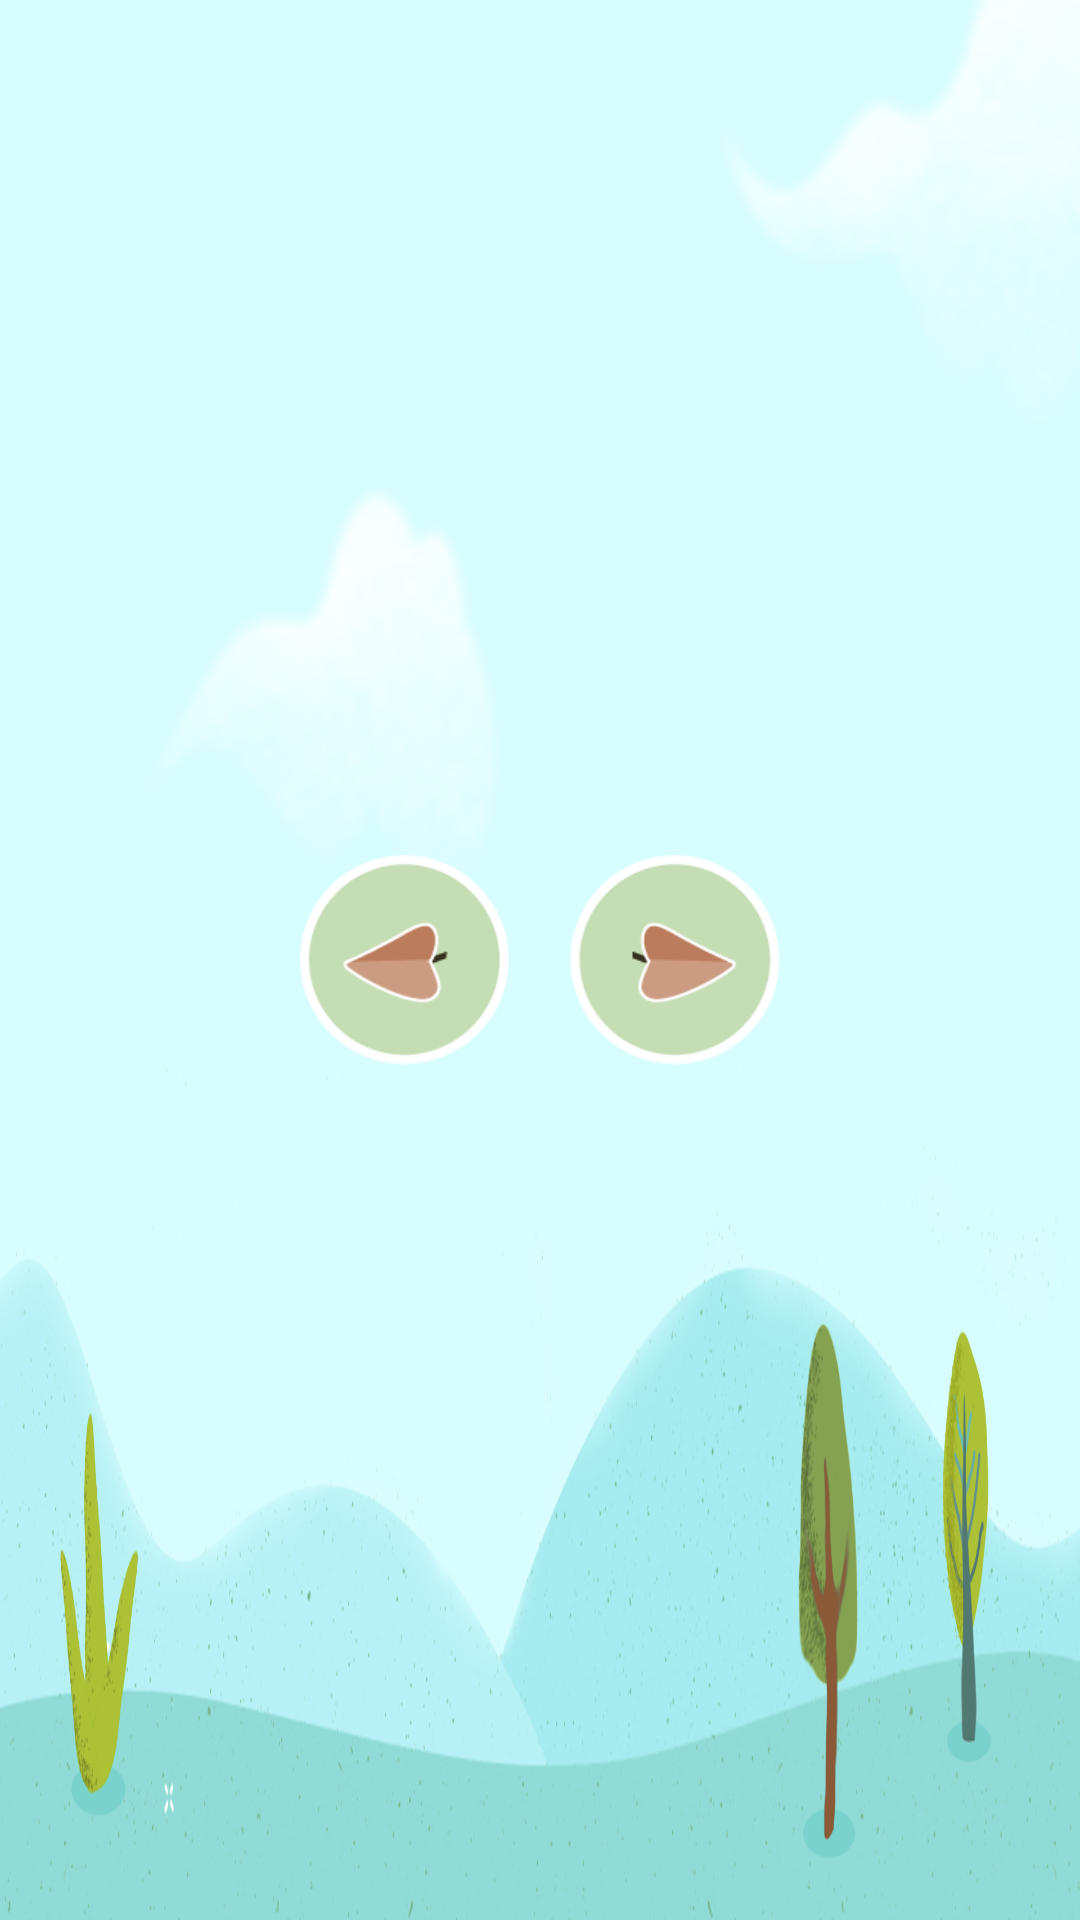

Screen size 1080 x 1920. Icon name, then its center in pixels as (x=x, y=y):
next: (x=675, y=959)
previous: (x=404, y=959)
